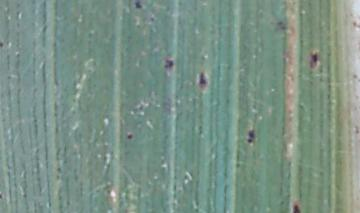tarspot: (308, 51, 320, 68), (245, 128, 256, 145), (197, 70, 207, 86), (162, 57, 174, 70), (291, 203, 302, 213), (196, 123, 204, 135), (351, 19, 360, 29), (353, 123, 360, 135), (125, 132, 134, 141), (134, 1, 142, 10), (148, 15, 156, 24), (250, 102, 258, 111), (281, 23, 288, 32), (351, 72, 358, 80), (55, 165, 62, 173), (276, 19, 283, 26), (54, 172, 60, 180), (1, 40, 5, 51), (1, 192, 4, 201)
